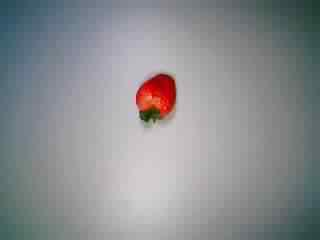strawberry: (120, 64, 186, 126)
